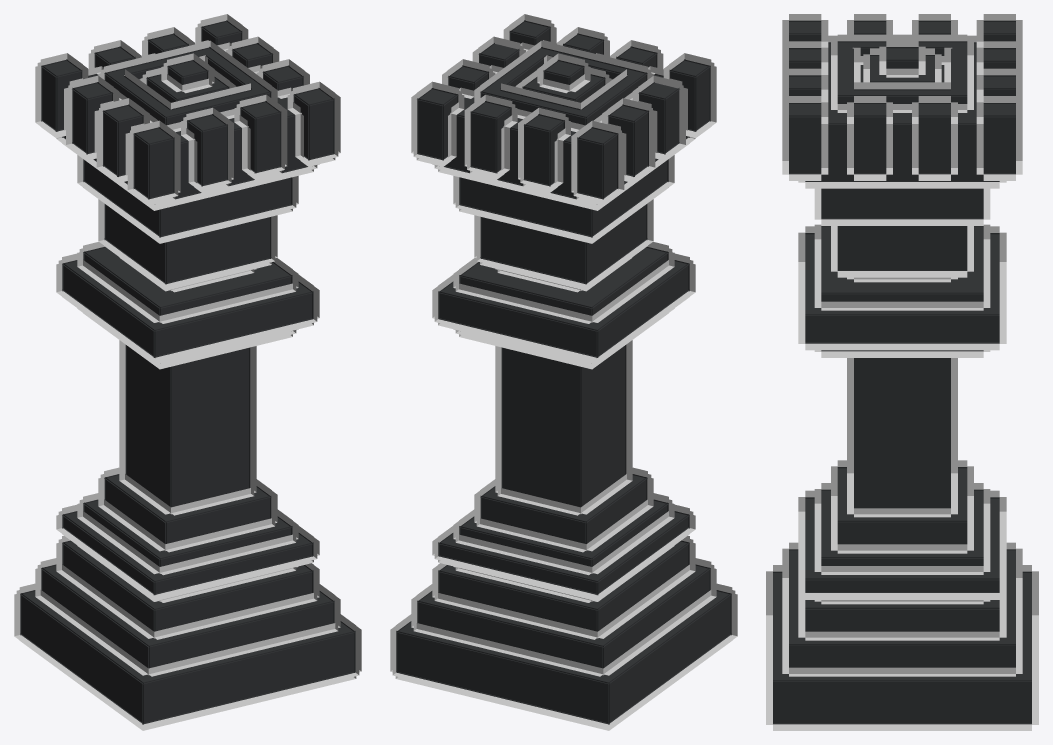
The model's file is black-queen.glb.
3 views of the same model, side by side, from view 1: azimuth 30°, elevation 25°; view 2: azimuth 150°, elevation 25°; view 3: azimuth 270°, elevation 25° (orthographic). The views are drawn at different scales.
Parts seen in each view (by area): view 1: chess-queen-black_model; view 2: chess-queen-black_model; view 3: chess-queen-black_model.
Part boxes in pixels (x1=…): chess-queen-black_model: x1=14, y1=14, x2=361, y2=730; chess-queen-black_model: x1=390, y1=14, x2=737, y2=730; chess-queen-black_model: x1=766, y1=14, x2=1038, y2=730.
Size of the model in its own units: 1.68 by 4.28 by 1.68.
Materials: 2 (1 with a texture image).
